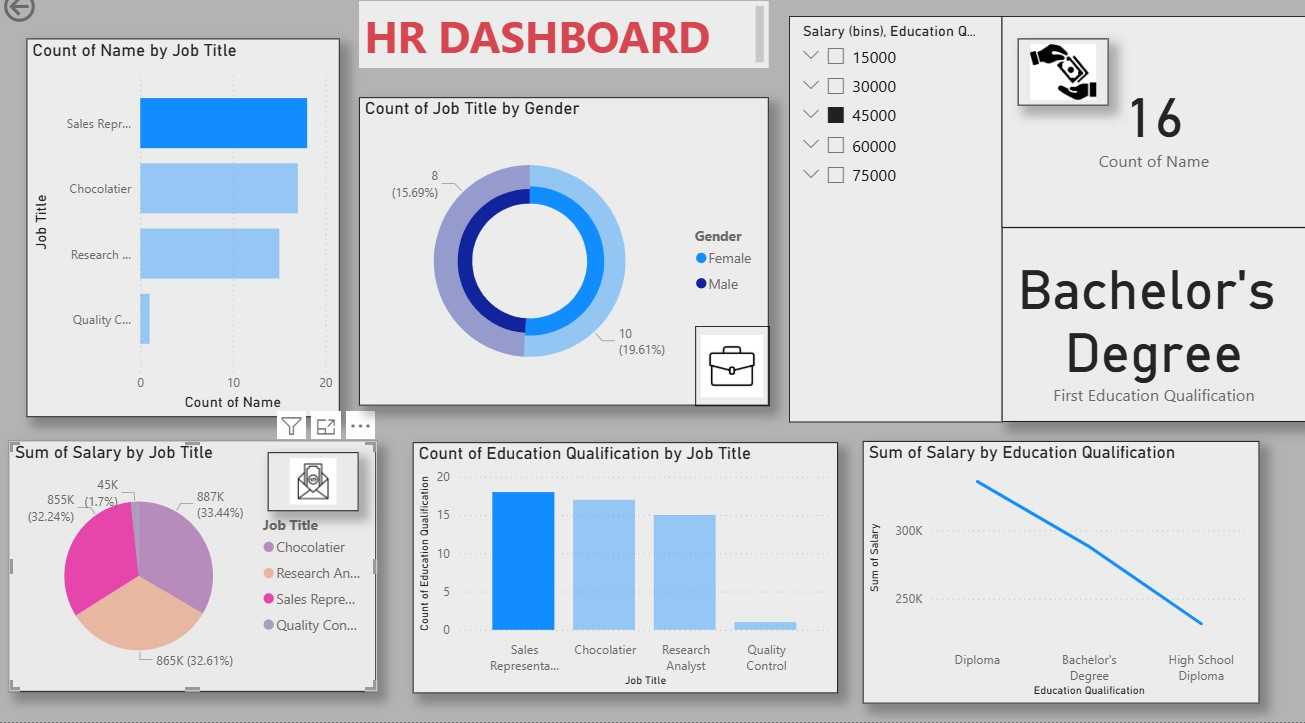

What the dashboard file says about the page in this screenshot:
{"tool":"powerbi","page":{"name":"Page 1","canvas":[1280,720],"ordinal":0},"visuals":[{"type":"columnChart","fields":{"Category":["data.Job Title"],"Y":["CountNonNull(data.Education Qualification)"]},"box":[404.8,446,415.8,245.6],"z":0},{"type":"barChart","fields":{"Category":["data.Job Title"],"Y":["CountNonNull(data.Name)"]},"box":[27.4,50.8,306,370.5],"z":1000},{"type":"pieChart","fields":{"Category":["data.Job Title"],"Y":["Sum(data.Salary)"]},"box":[9.6,444.6,359.5,245.6],"z":2000},{"type":"lineChart","fields":{"Y":["Sum(data.Salary)"],"Category":["data.Education Qualification"]},"box":[845.3,444.6,388.3,256.6],"z":3000},{"type":"card","fields":{"Values":["Min(data.Education Qualification)"]},"box":[981.1,236,299.1,190.7],"z":4000},{"type":"donutChart","fields":{"Category":["data.Gender"],"Y":["CountNonNull(data.Job Title)"]},"box":[352.7,108.4,400.7,301.9],"z":5000},{"type":"textbox","box":[352.7,15.1,400.7,65.9],"z":6000},{"type":"actionButton","box":[0,0,100,40],"z":7000},{"type":"slicer","fields":{"Values":["data.Salary (bins)","data.Education Qualification"]},"box":[772.6,28.8,208.6,397.9],"z":8000},{"type":"card","fields":{"Values":["Count(data.Name)"]},"box":[981.1,28.8,299.1,207.2],"z":9000},{"type":"image","box":[263.5,455.6,89.2,57.6],"z":10000},{"type":"image","box":[996.2,50.8,89.2,65.9],"z":11000},{"type":"image","box":[680.6,332.1,72.7,78.2],"z":12000}]}

Visuals, with their boxes in screenshot pixels (x1, y1, x2, y2), scaled from the page's 1280x720 canvas onto the 1305x723 screenshot:
columnChart - data.Job Title x CountNonNull(data.Education Qualification): <region>413, 448, 837, 694</region>
barChart - data.Job Title x CountNonNull(data.Name): <region>28, 51, 340, 423</region>
pieChart - data.Job Title x Sum(data.Salary): <region>10, 446, 376, 693</region>
lineChart - Sum(data.Salary) x data.Education Qualification: <region>862, 446, 1258, 704</region>
card - Min(data.Education Qualification): <region>1000, 237, 1304, 428</region>
donutChart - data.Gender x CountNonNull(data.Job Title): <region>360, 109, 768, 412</region>
textbox: <region>360, 15, 768, 81</region>
actionButton: <region>0, 0, 102, 40</region>
slicer - data.Salary (bins) x data.Education Qualification: <region>788, 29, 1000, 428</region>
card - Count(data.Name): <region>1000, 29, 1304, 237</region>
image: <region>269, 457, 360, 515</region>
image: <region>1016, 51, 1107, 117</region>
image: <region>694, 333, 768, 412</region>
